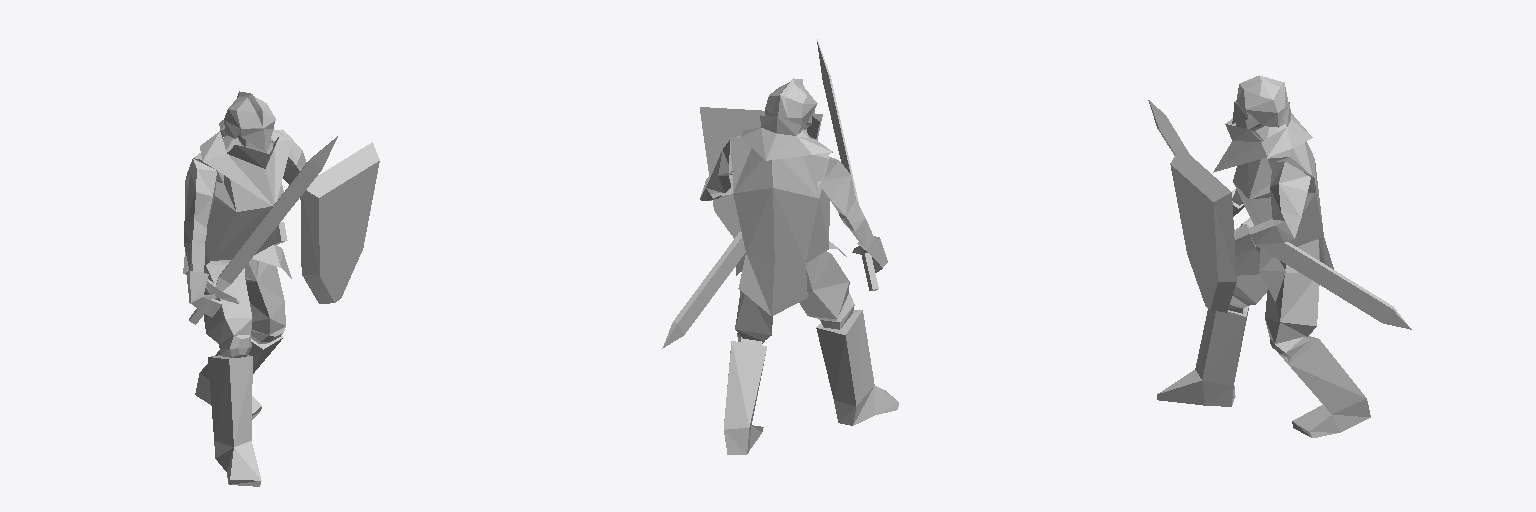
Rendered from knight.obj.
3 views of the same model, side by side, from view 1: azimuth 30°, elevation 25°; view 2: azimuth 150°, elevation 25°; view 3: azimuth 270°, elevation 25° (orthographic).
Size of the model in its own units: 8.38 by 15.01 by 10.34.